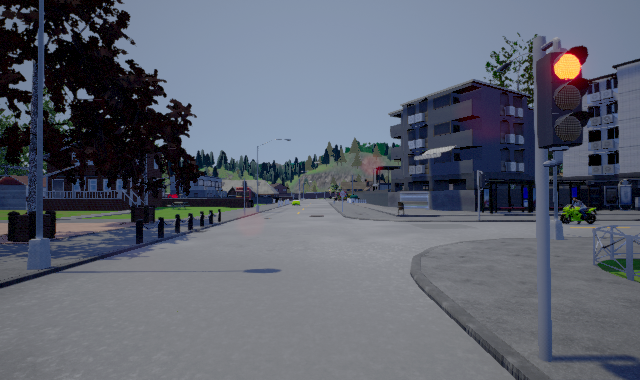traffic_light: (536, 37, 590, 167)
vehicle: (560, 199, 598, 224)
